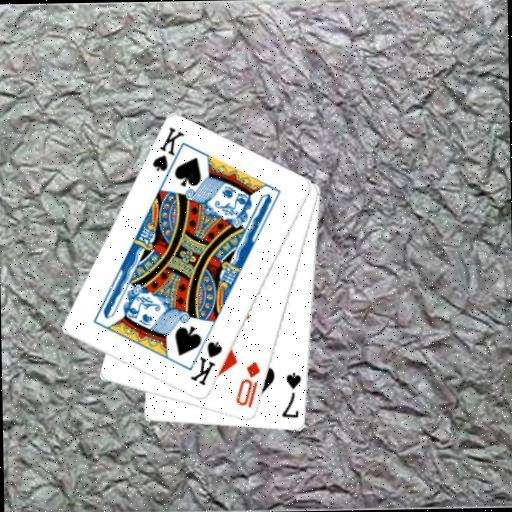10D: (232, 359, 262, 410)
7S: (278, 370, 304, 421)
KS: (149, 125, 188, 183), (187, 339, 225, 389)
